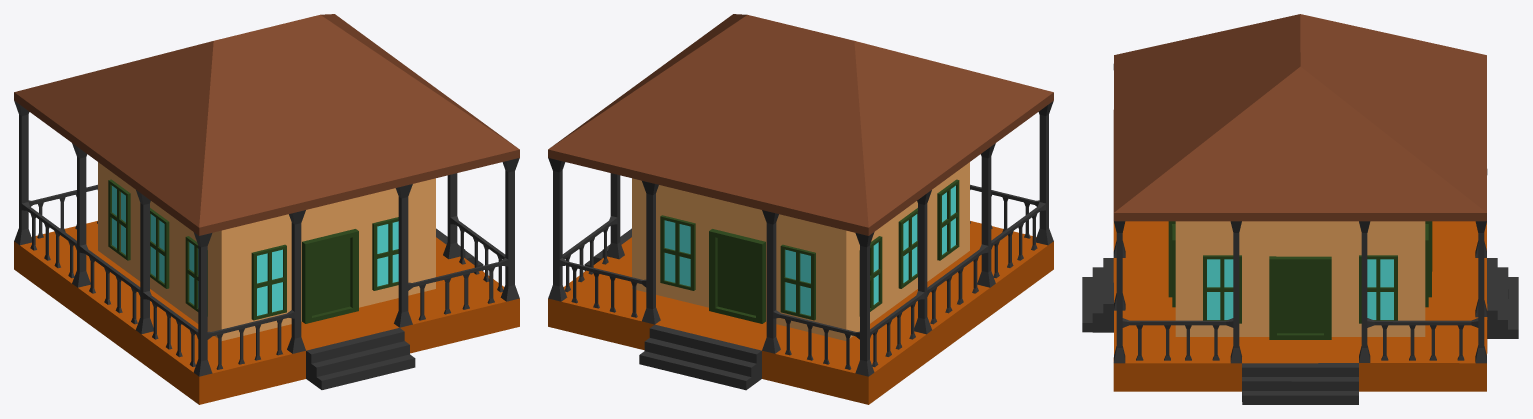
The model's file is Building_1.glb.
3 views of the same model, side by side, from view 1: azimuth 30°, elevation 25°; view 2: azimuth 150°, elevation 25°; view 3: azimuth 270°, elevation 25° (orthographic).
Visible parts, largest first — view 1: Building 1; view 2: Building 1; view 3: Building 1.
Boxes of the visible parts, x1,y1,x2,y2 form: Building 1: (14, 14, 519, 404); Building 1: (548, 14, 1053, 404); Building 1: (1082, 14, 1518, 404).
Bounding box in the file's own units: 6.73 × 5 × 7.26.
